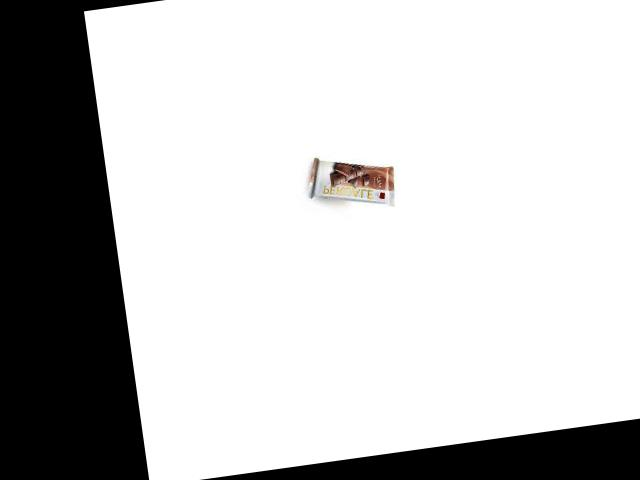chocolate: (308, 140, 399, 218)
